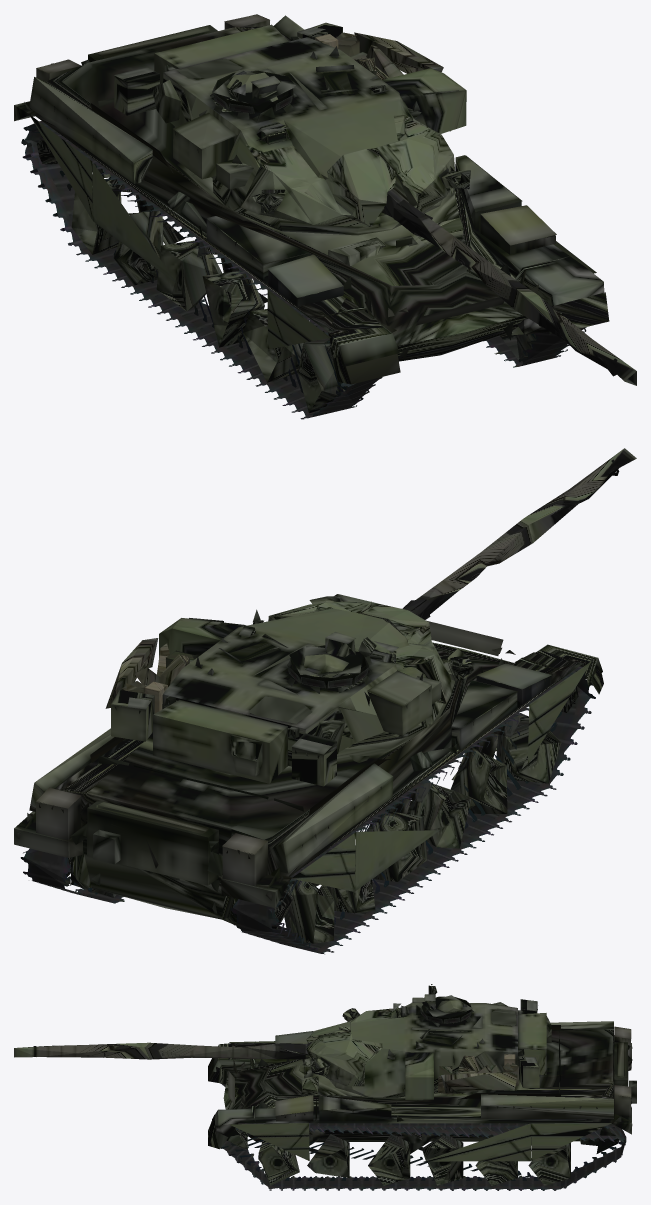
3 renders of one model, top to bottom at view 1: azimuth 30°, elevation 25°; view 2: azimuth 150°, elevation 25°; view 3: azimuth 270°, elevation 25°, orthographic. The views are drawn at different scales.
Visible parts, largest first — view 1: Object_4, Object_2, Object_6, Object_11, Object_10, Object_3, Object_5, Object_7, Object_8; view 2: Object_4, Object_2, Object_11, Object_10, Object_3, Object_6, Object_5, Object_7; view 3: Object_4, Object_2, Object_11, Object_10, Object_3, Object_5, Object_6, Object_7.
Boxes of the visible parts, box(x1,y1,x2,y2) form: Object_4: box(14, 14, 609, 384); Object_2: box(114, 22, 466, 235); Object_6: box(164, 72, 470, 265); Object_11: box(37, 136, 551, 413); Object_10: box(21, 121, 586, 419); Object_3: box(29, 114, 596, 349); Object_5: box(382, 175, 636, 385); Object_7: box(315, 32, 443, 80); Object_8: box(213, 84, 292, 113); Object_4: box(14, 594, 603, 924); Object_2: box(111, 608, 443, 786); Object_11: box(66, 676, 578, 943); Object_10: box(20, 666, 595, 954); Object_3: box(29, 661, 591, 891); Object_6: box(268, 596, 473, 752); Object_5: box(402, 448, 636, 619); Object_7: box(105, 638, 193, 713); Object_4: box(208, 1021, 636, 1149); Object_2: box(309, 984, 551, 1099); Object_11: box(228, 1127, 619, 1185); Object_10: box(220, 1083, 626, 1190); Object_3: box(229, 1041, 611, 1161); Object_5: box(14, 1042, 311, 1059); Object_6: box(301, 1002, 516, 1094); Object_7: box(438, 1054, 518, 1094).
Size of the model in its own units: 153 by 119 by 460.
9 materials, 9 textured.
